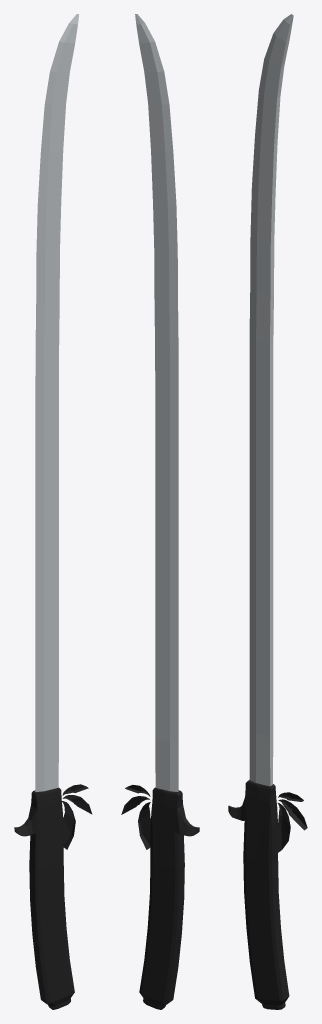
The model's file is Blade.fbx.
The picture shows the model from 3 angles, left to right: view 1: azimuth 30°, elevation 25°; view 2: azimuth 150°, elevation 25°; view 3: azimuth 330°, elevation 25°; orthographic projection.
Parts seen in each view (by area): view 1: Blade; view 2: Blade; view 3: Blade.
Boxes of the visible parts, box(x1,y1,x2,y2) form: Blade: box(14, 14, 92, 1009); Blade: box(121, 14, 199, 1009); Blade: box(228, 14, 307, 1009).
Size of the model in its own units: 22.68 by 280 by 3.69.
